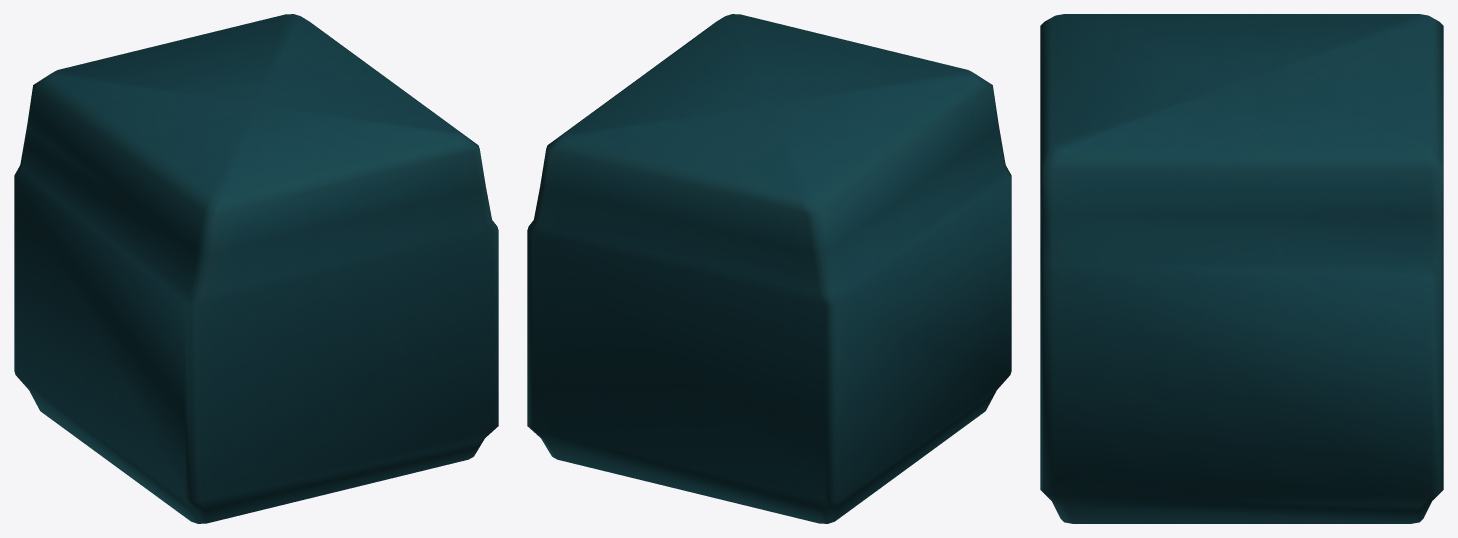
Rendered from machine-mill-unit-tripo-original.glb.
3 renders of one model, left to right at view 1: azimuth 30°, elevation 25°; view 2: azimuth 150°, elevation 25°; view 3: azimuth 270°, elevation 25°, orthographic. The views are drawn at different scales.
Parts seen in each view (by area): view 1: Authored_surface; view 2: Authored_surface; view 3: Authored_surface.
Part boxes in pixels (x1,y1,x2,y2): Authored_surface: (14,14,498,523); Authored_surface: (527,14,1011,523); Authored_surface: (1040,14,1443,523).
Size of the model in its own units: 1 by 1 by 1.
1 material, 1 textured.
